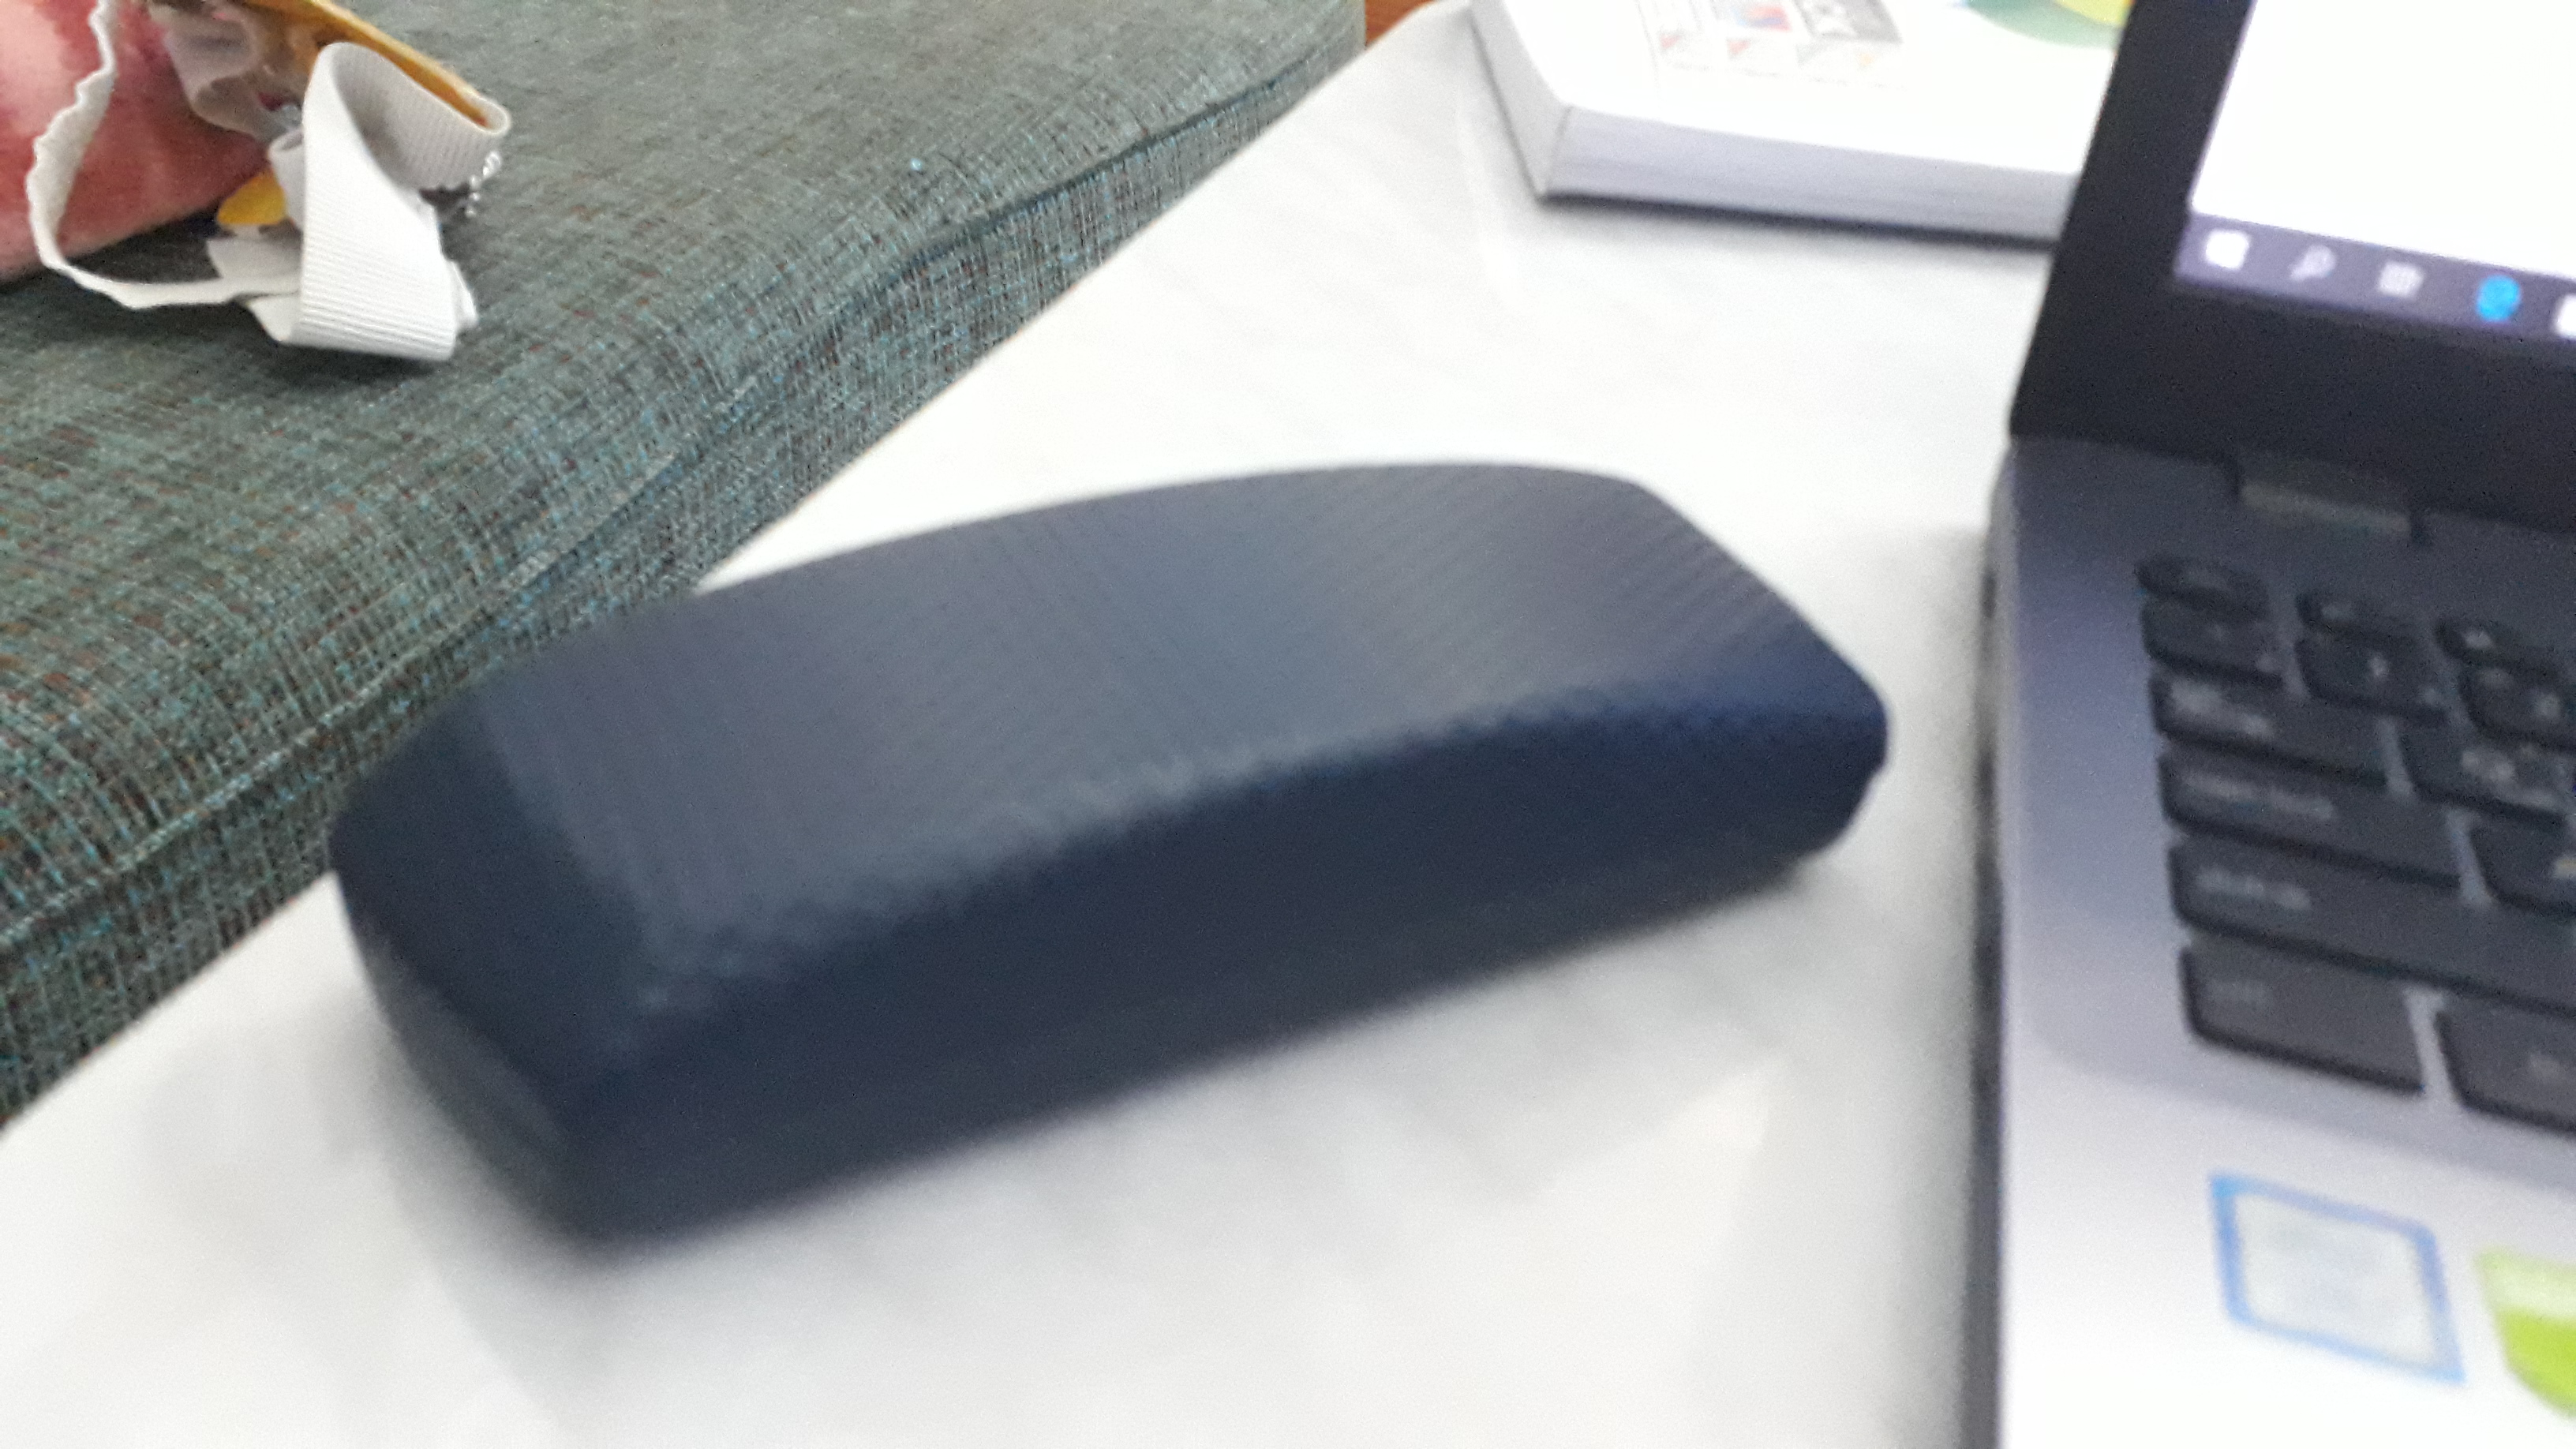nadar: (320, 373, 1905, 1258)
